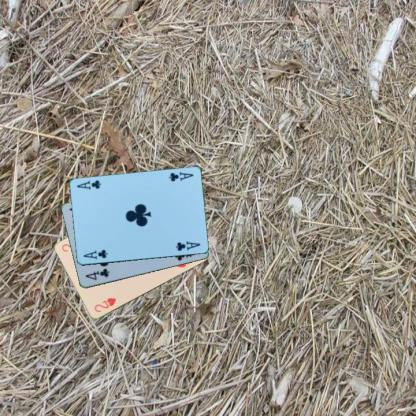2h: (92, 295, 117, 314)
4c: (83, 266, 110, 281)
Ac: (166, 169, 195, 183), (81, 247, 109, 261)
